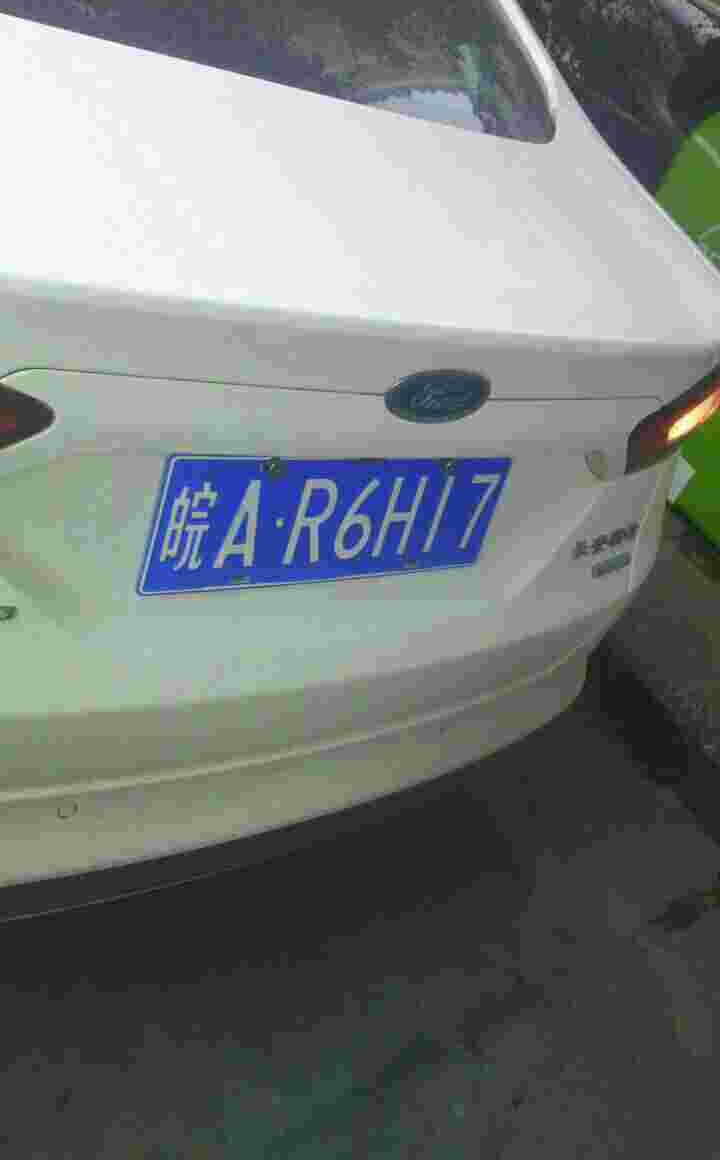license_plate: (163, 444, 513, 594)
